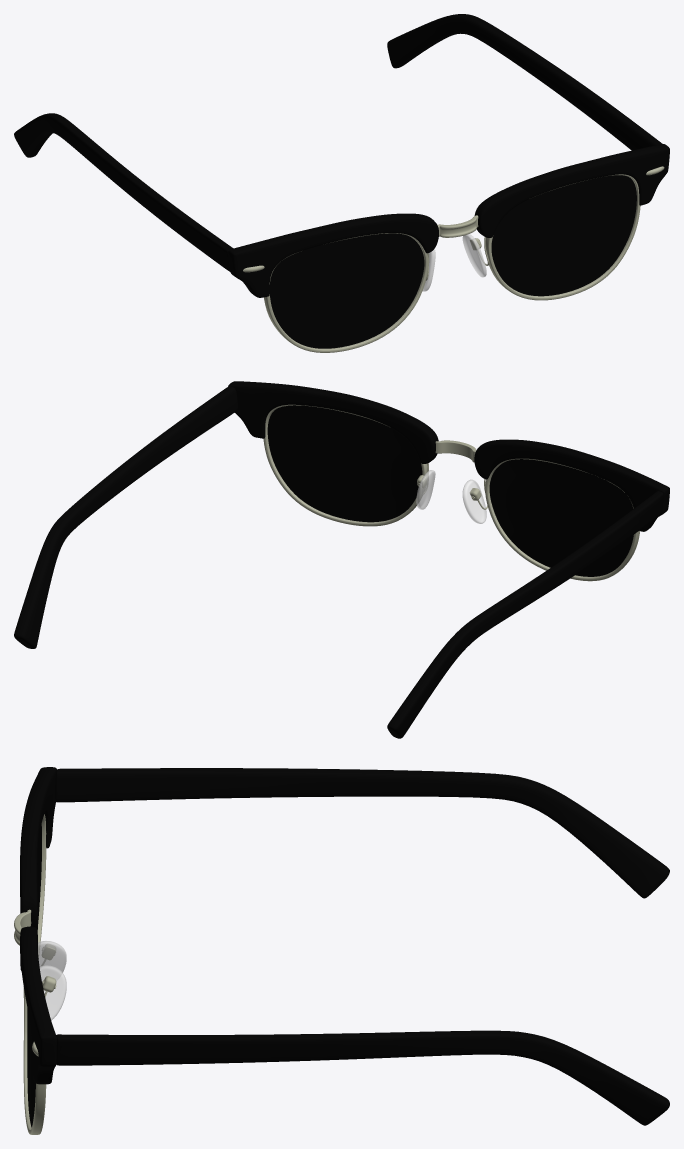
Rendered from glasses_light.glb.
The picture shows the model from 3 angles, top to bottom: view 1: azimuth 30°, elevation 25°; view 2: azimuth 150°, elevation 25°; view 3: azimuth 270°, elevation 25°; orthographic projection. The views are drawn at different scales.
Parts seen in each view (by area): view 1: Mesh_0, Mesh_3, Mesh_2, Mesh_4; view 2: Mesh_0, Mesh_3, Mesh_2, Mesh_4; view 3: Mesh_3, Mesh_2, Mesh_4, Mesh_0.
Boxes of the visible parts, x1,y1,x2,y2 form: Mesh_0: (269,175,636,348); Mesh_3: (14,14,669,297); Mesh_2: (264,174,640,352); Mesh_4: (422,234,486,291); Mesh_0: (267,405,633,576); Mesh_3: (14,381,669,738); Mesh_2: (263,404,639,581); Mesh_4: (416,470,486,523); Mesh_3: (20,767,669,1125); Mesh_2: (14,814,56,1134); Mesh_4: (38,941,66,1020); Mesh_0: (27,824,41,1127).
Size of the model in its own units: 12.58 by 3.48 by 12.81.
Materials: 4 (4 with a texture image).
